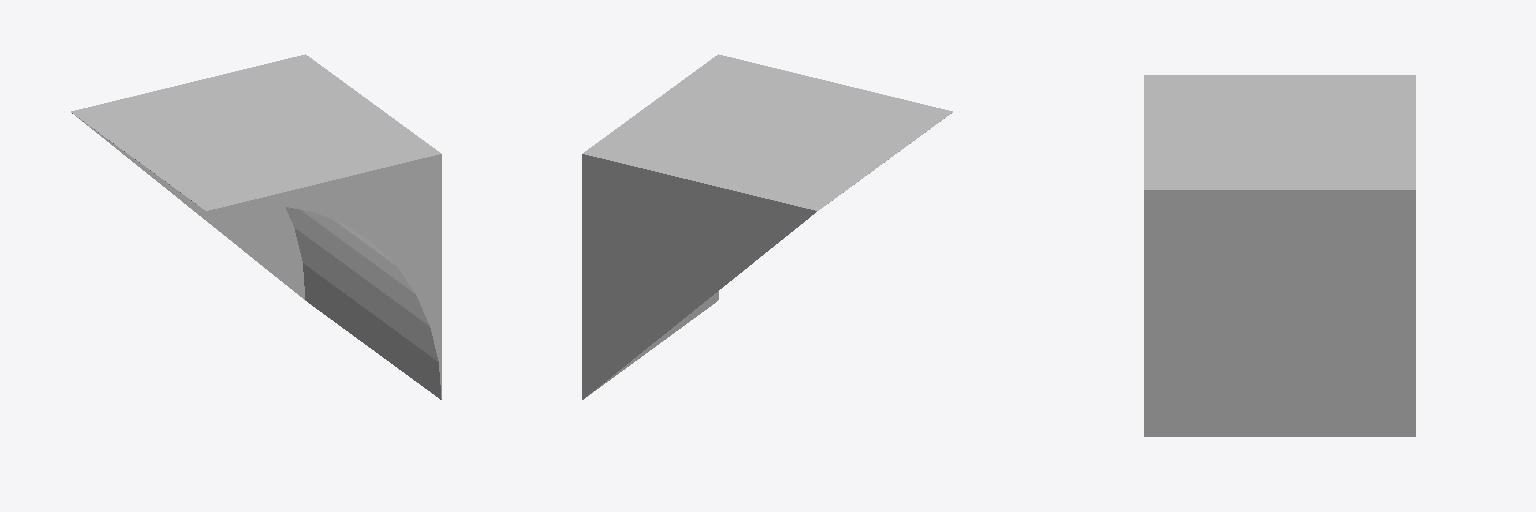
Rendered from RoundedEdge-Inside.obj.
3 views of the same model, side by side, from view 1: azimuth 30°, elevation 25°; view 2: azimuth 150°, elevation 25°; view 3: azimuth 270°, elevation 25° (orthographic).
Visible parts, largest first — view 1: Cube.001; view 2: Cube.001; view 3: Cube.001.
Boxes of the visible parts, box(x1,y1,x2,y2) form: Cube.001: box(71, 54, 441, 399); Cube.001: box(582, 54, 952, 399); Cube.001: box(1144, 75, 1415, 436).
Bounding box in the file's own units: 1 × 1 × 1.